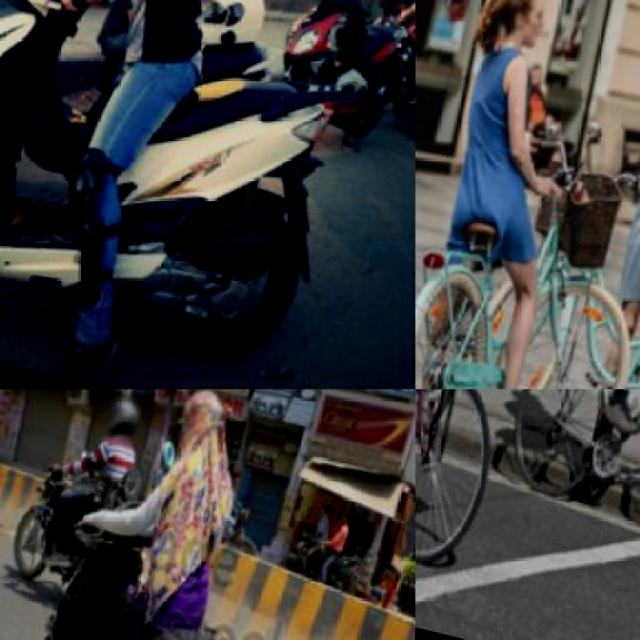With Helmet: (98, 392, 145, 450)
Without Helmet: (168, 389, 234, 457), (484, 0, 562, 54)
